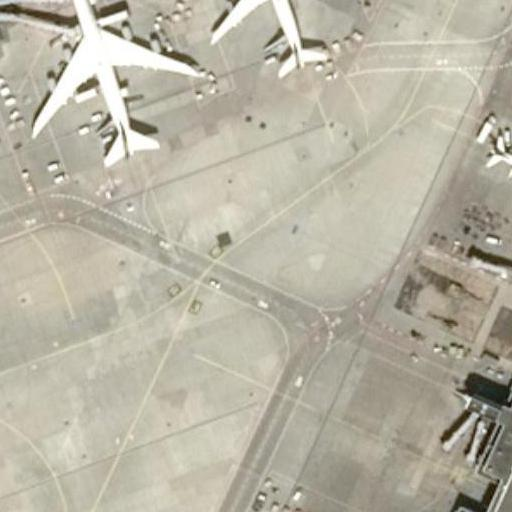Aircraft: (25, 0, 199, 167), (25, 0, 191, 166), (206, 0, 356, 81), (205, 0, 356, 76), (483, 108, 512, 212), (481, 120, 512, 212)
